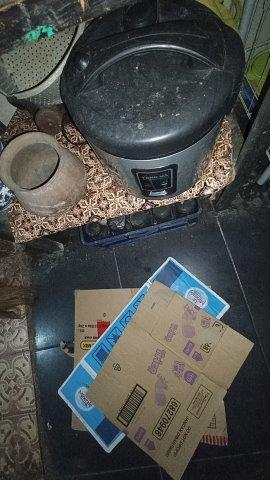kardus: (59, 258, 253, 478)
